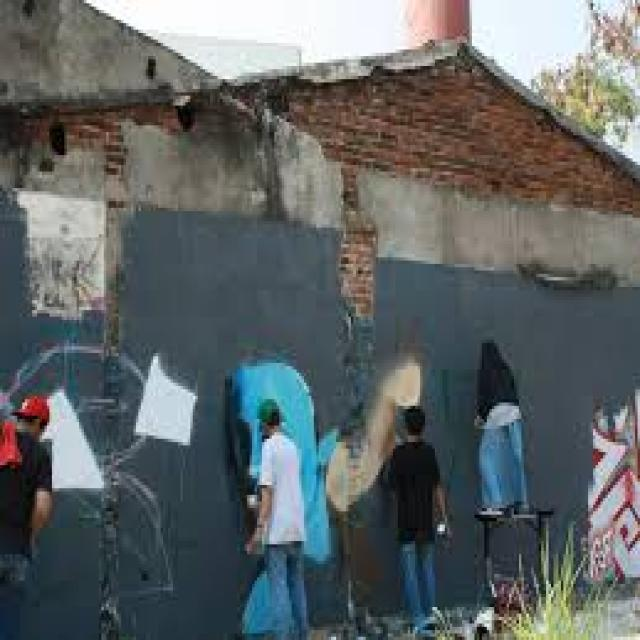-: (0, 340, 196, 600), (226, 354, 336, 640), (591, 389, 640, 592)
